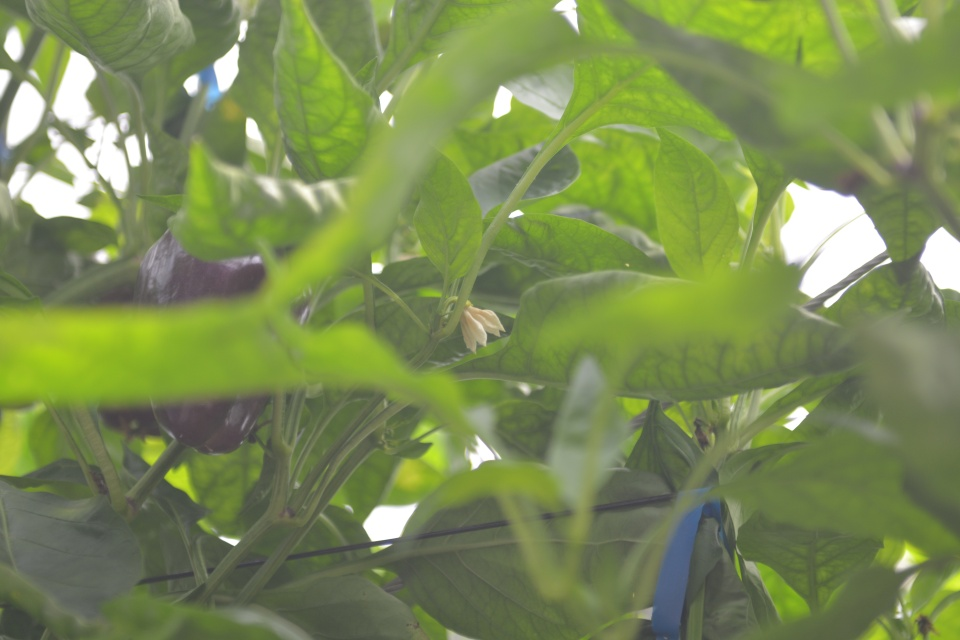flower: (458, 300, 508, 354)
fruit: (130, 225, 272, 458)
